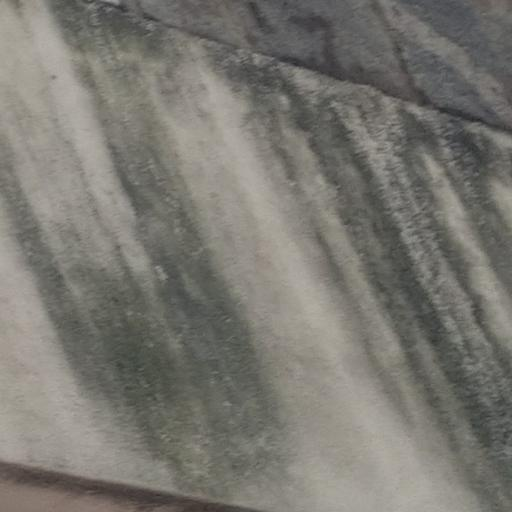algae: (55, 18, 496, 419)
